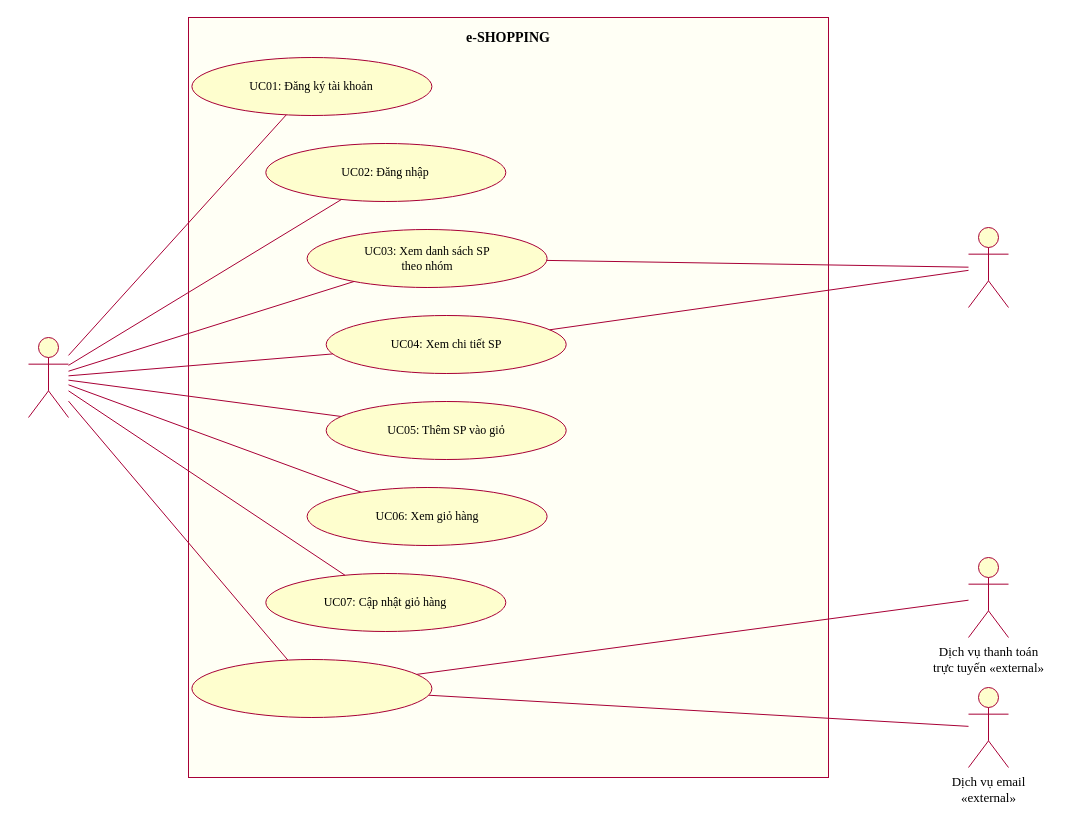
Some shapes in this 1077 by 823 pixel diagram are drawn without their labels. The centre of each missing label's shape, as x and y in pixels:
Hệ thống quản lý sản phẩm «external»: (988,267)
Khách hàng: (48,377)
UC08: Đặt hàng và tính tiền: (311,688)
